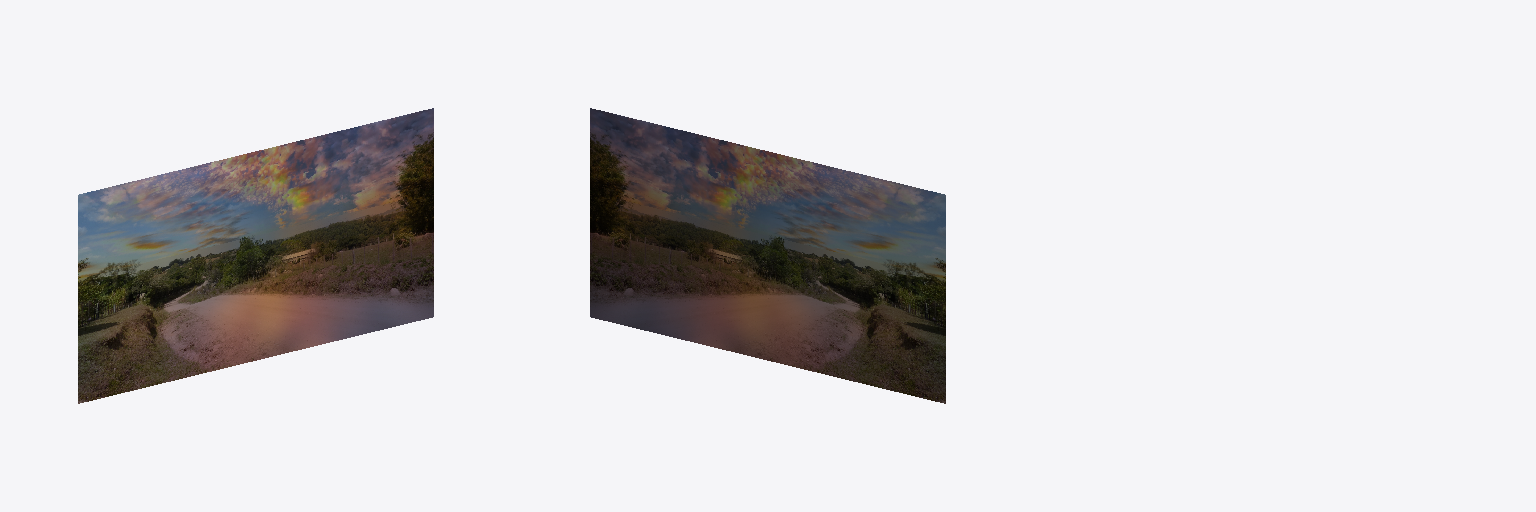
3 views of the same model, side by side, from view 1: azimuth 30°, elevation 25°; view 2: azimuth 150°, elevation 25°; view 3: azimuth 270°, elevation 25° (orthographic).
Visible parts, largest first — view 1: Acoita_Cavalo_01; view 2: Acoita_Cavalo_01; view 3: none.
Part boxes in pixels (bbox=[...]): Acoita_Cavalo_01: bbox=[78, 108, 433, 403]; Acoita_Cavalo_01: bbox=[590, 108, 945, 403].
Bounding box in the file's own units: 1.78 × 1 × 0.
Materials: 1 (1 with a texture image).